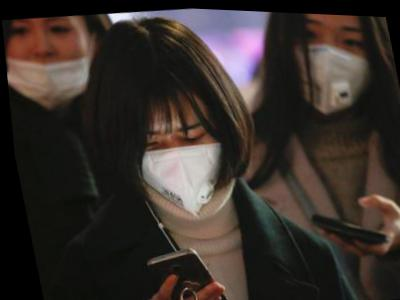OK: (121, 101, 235, 218), (282, 11, 383, 117)
